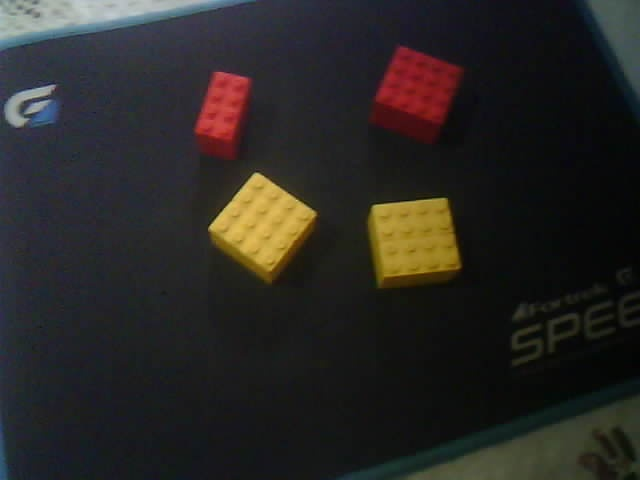lego: (207, 171, 319, 285), (367, 43, 464, 145), (365, 195, 463, 292), (191, 70, 253, 160)
